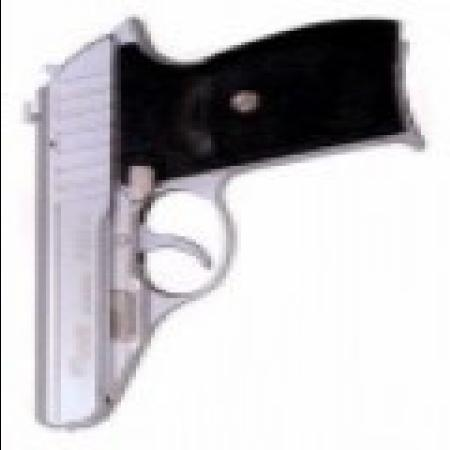Pistol: (23, 20, 432, 430)
